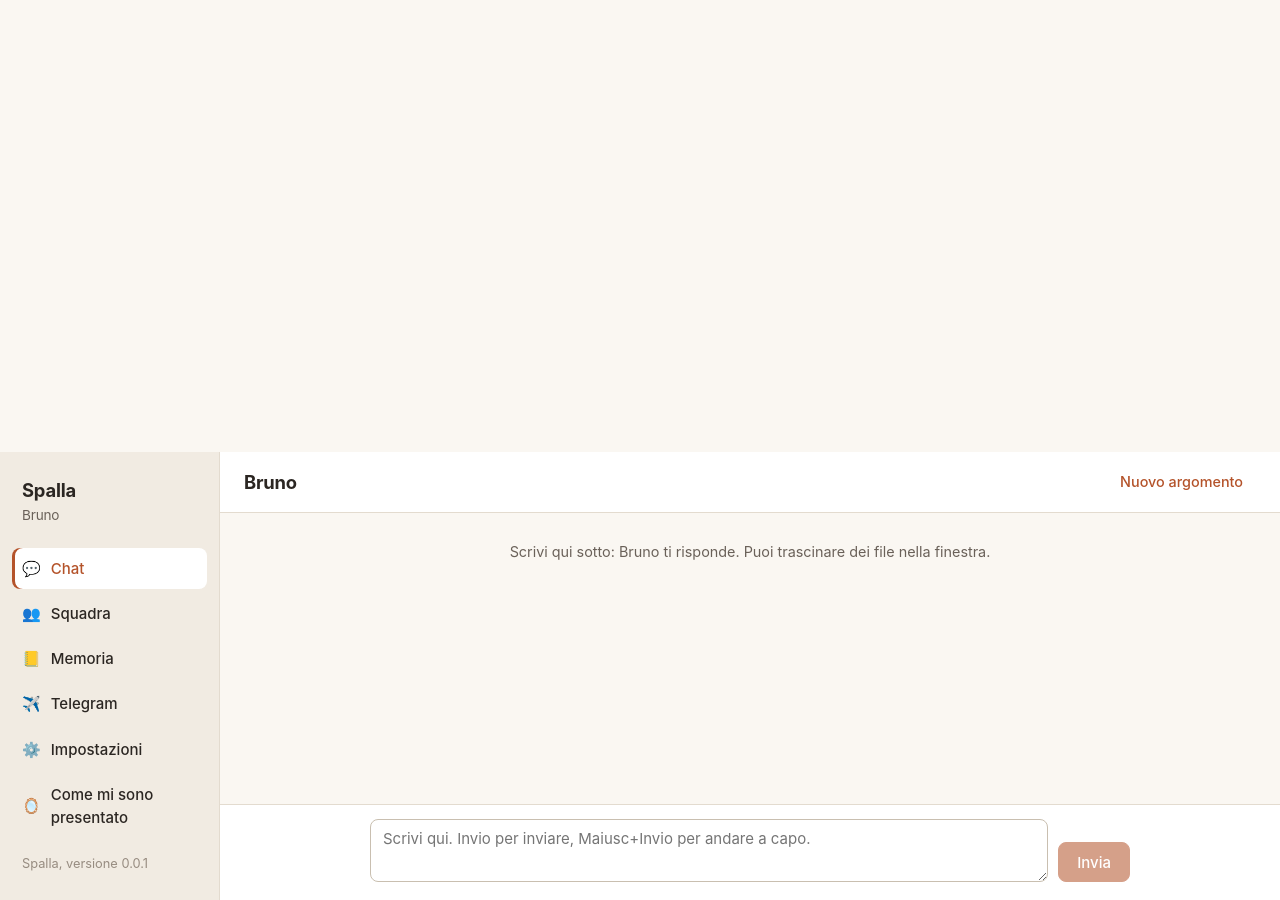
it: Impostazioni › cervello: passare all'abbonamento mostra l'avviso di beta
(page scrolled)
Expected: the navigation bar named "Sezioni" is shown, [0,452,220,899]
Click the button "⚙️ Impostazioni".
click(110, 749)  # box [12,729,207,770]
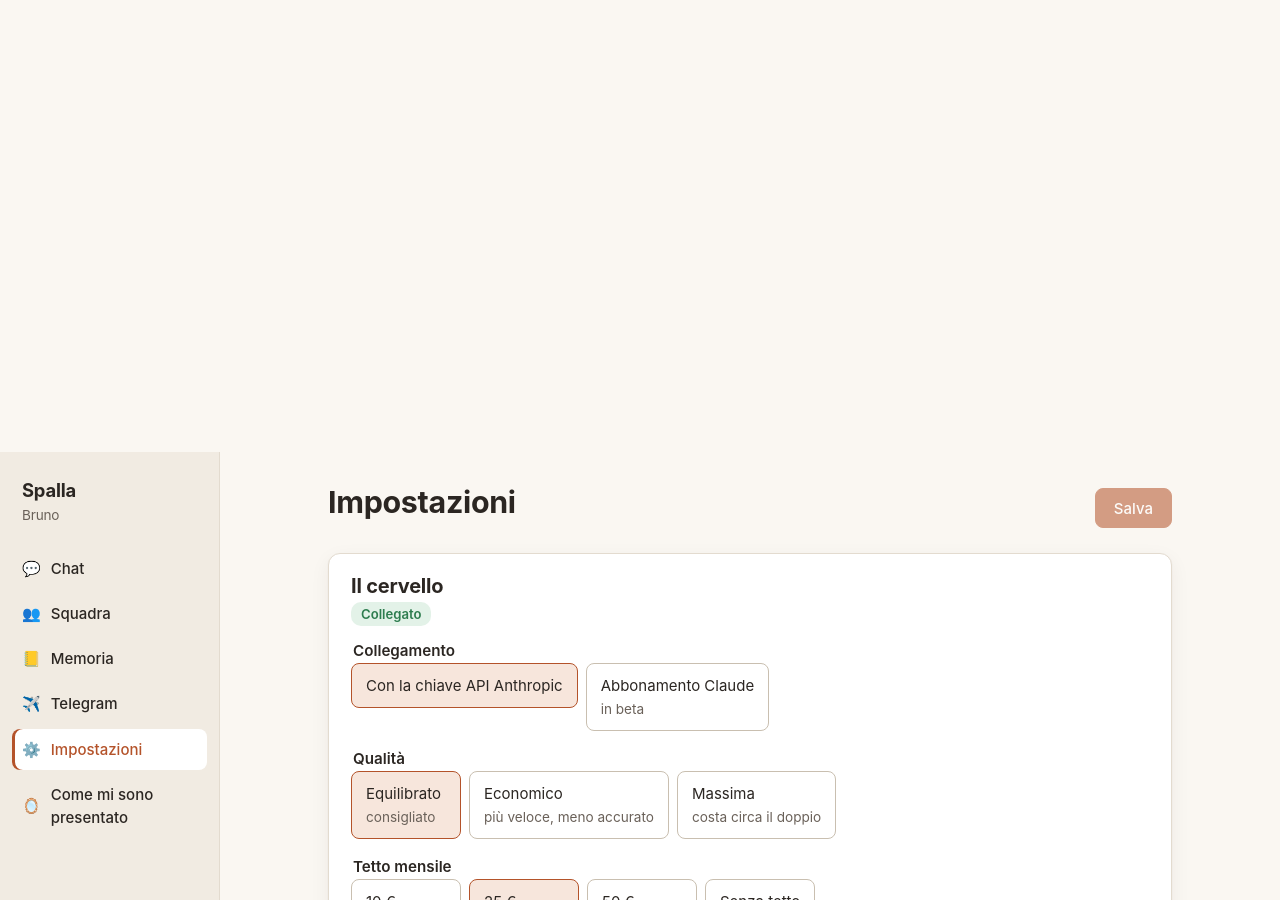
Now the heading "Il cervello" is shown, box [351,574,443,598]
Click the radio button labelled "Abbonamento Claude in beta".
click(677, 697)  # box [586,663,769,731]
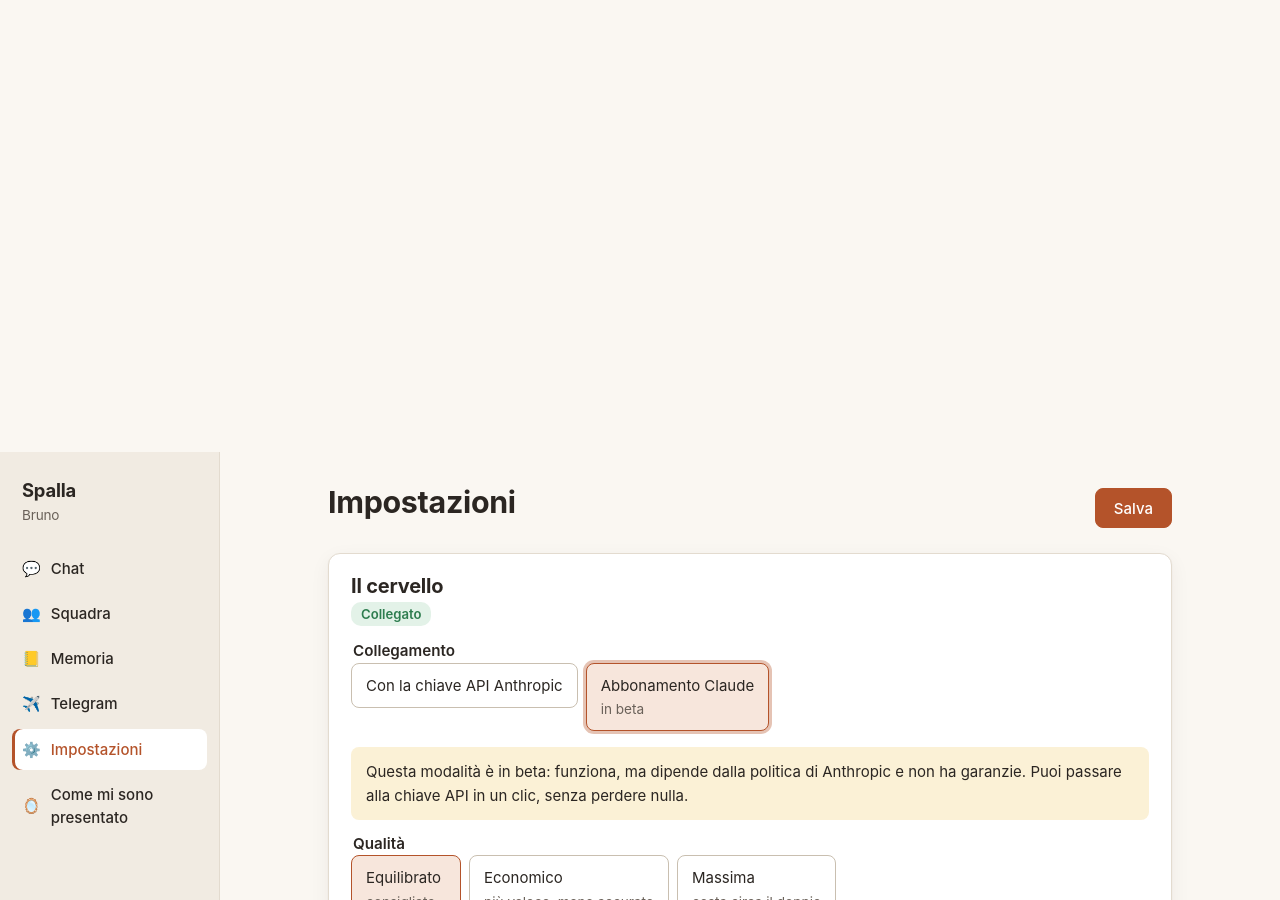
Now the text "Questa modalità è in beta: funziona, ma dipende dalla politica di Anthropic e non ha garanzie. Puoi passare alla chiave " is shown, box [366,762,1122,805]
